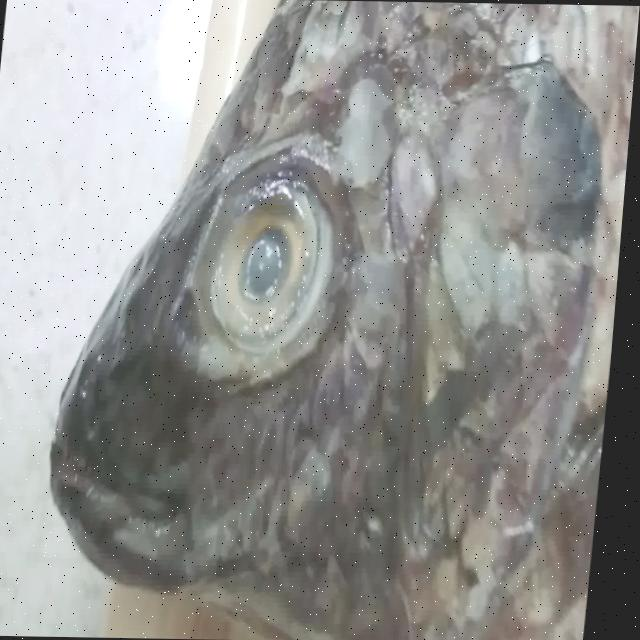Non-Fresh: (174, 125, 377, 400)
